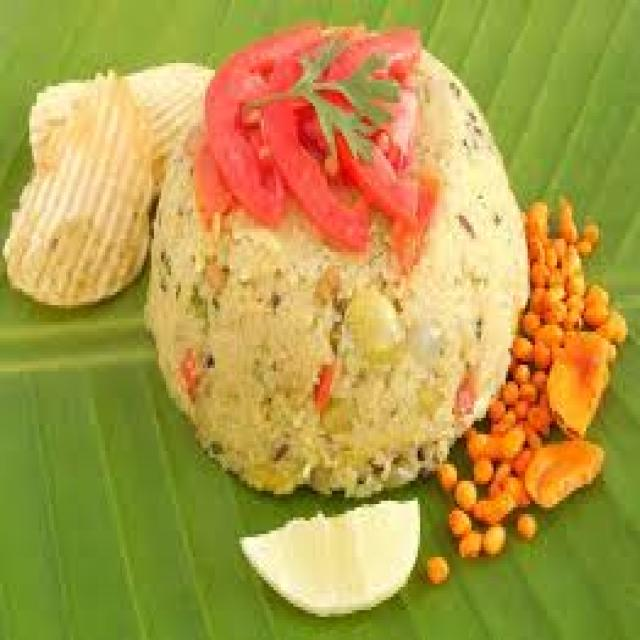DOSA: (139, 13, 584, 491)
